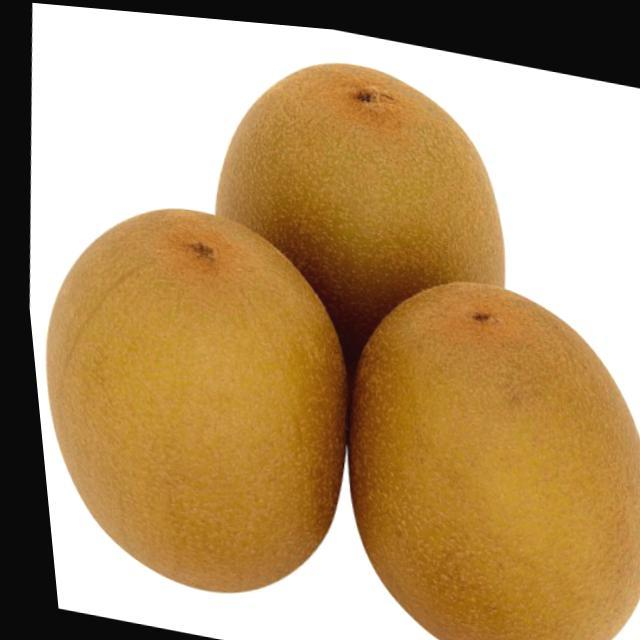kiwi: (15, 178, 376, 623), (304, 246, 640, 640), (188, 27, 520, 285)
